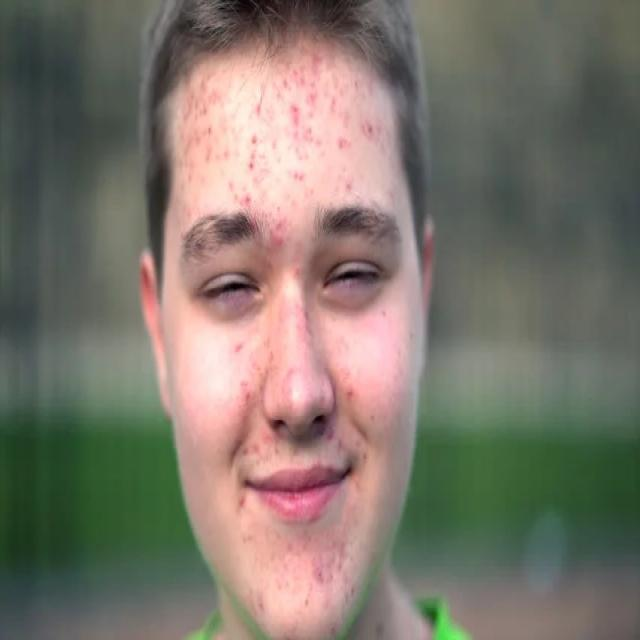Acne: (243, 135, 293, 215), (280, 87, 341, 148), (187, 92, 236, 148), (232, 368, 268, 417), (343, 370, 371, 423), (310, 545, 344, 577)
